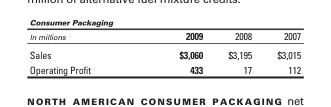table: (28, 28, 300, 75)
table column: (28, 28, 134, 75), (134, 28, 214, 75), (214, 28, 263, 75), (263, 28, 300, 75)
table column header: (28, 28, 300, 44)
table row: (28, 44, 300, 61), (28, 28, 300, 44), (28, 61, 300, 75)
